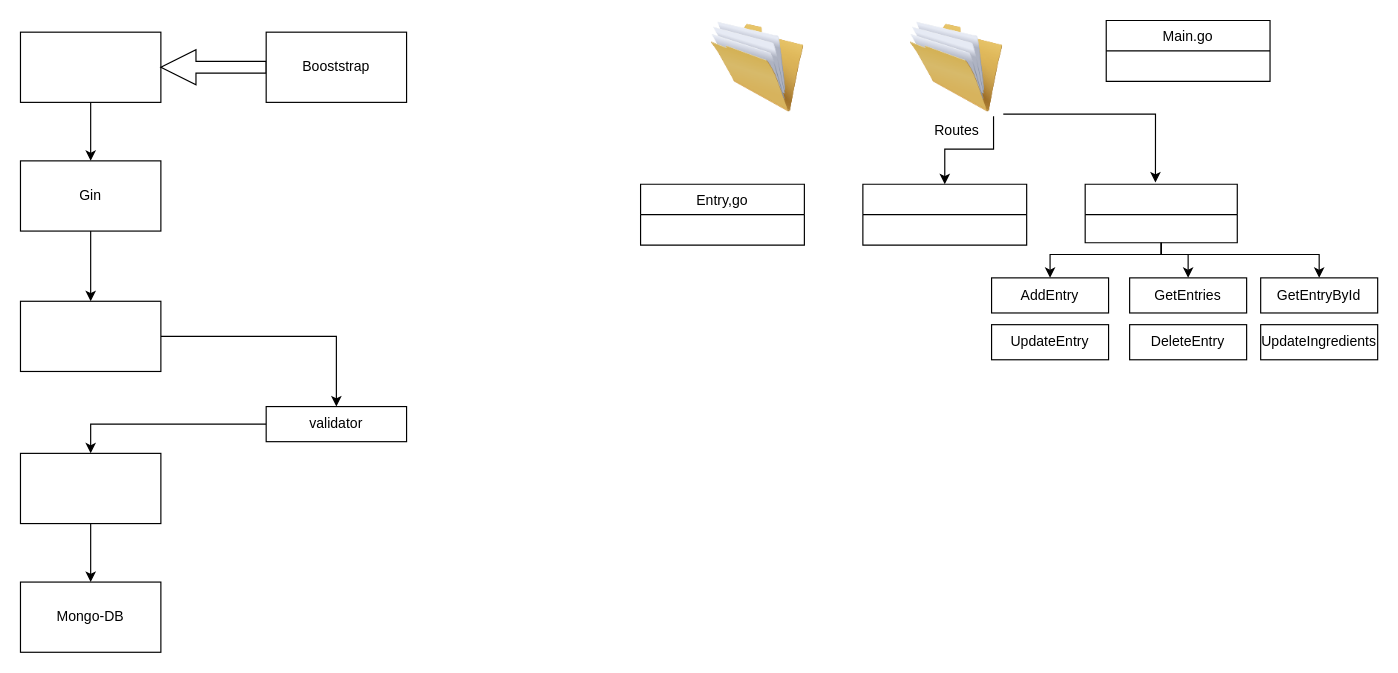
This 1398x673 diagram has some shape labels left out. Each missing label, with the centre of its shape:
Connection.go: point (944, 214)
Entries.go: point (1160, 213)
Golang: point (90, 335)
Models: point (757, 66)
Mongo-driver: point (90, 488)
React: point (90, 66)
